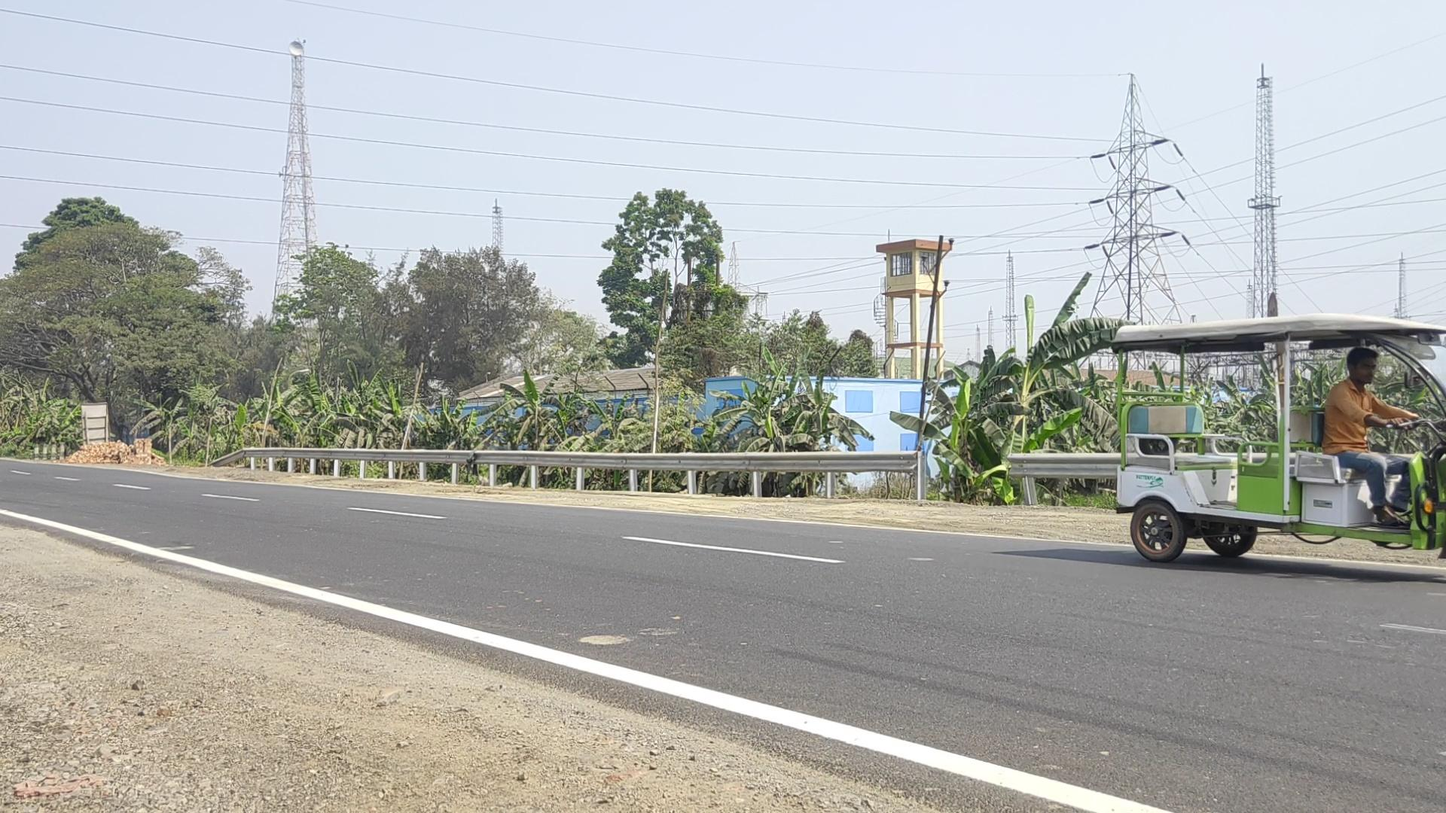Auto: (1114, 315, 1446, 575)
